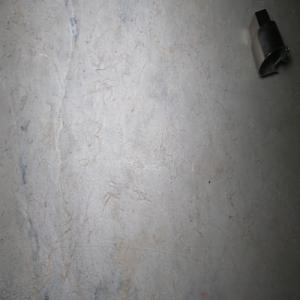MetalPart: (248, 8, 289, 76)
